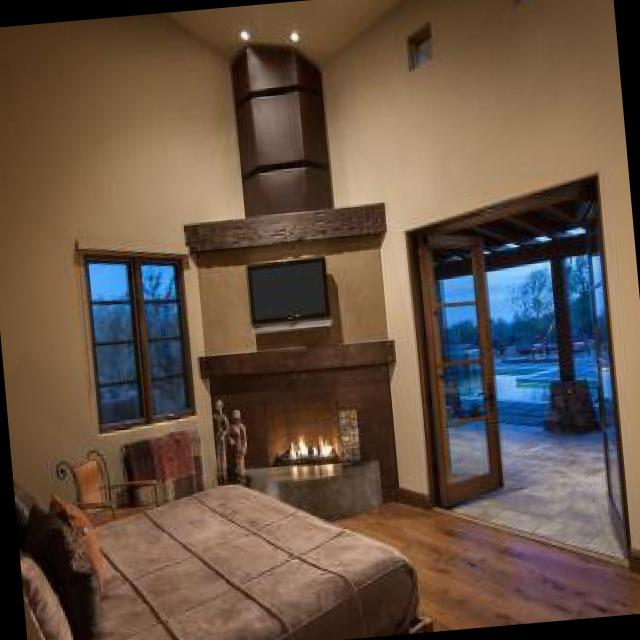Fire: (286, 430, 353, 469)
